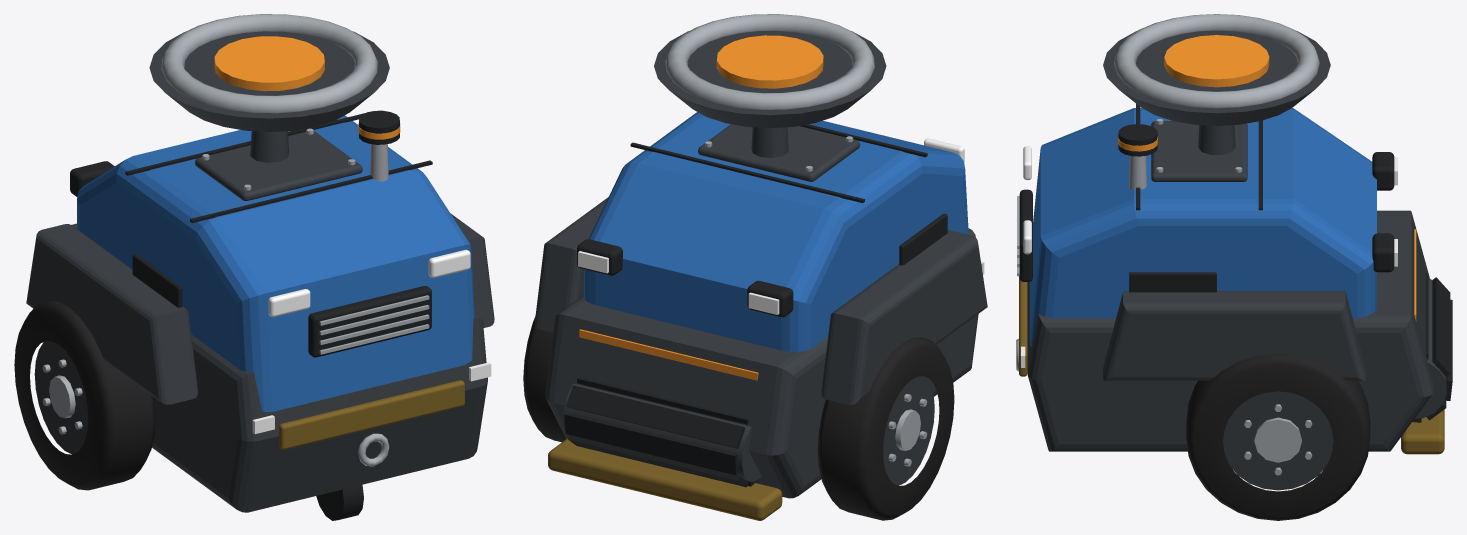
File: Machine_magnet_T1.glb
3 renders of one model, left to right at view 1: azimuth 30°, elevation 25°; view 2: azimuth 150°, elevation 25°; view 3: azimuth 270°, elevation 25°, orthographic. The views are drawn at different scales.
Visible parts, largest first — view 1: Body_Shell_0, Tier1_Parts_MAT_Player_Gunmetal_8, Axle_Front_MAT_tread_5, Tier1_Parts_MAT_steel_10, Tier1_Parts_MAT_darkTrim_9, Tier1_Parts_MAT_Player_Hazard_11, Tier1_Parts_MAT_Player_IntakeGlow_12, Axle_Front_MAT_Player_Gunmetal_6, Tier1_Parts_MAT_lamps_13, Axle_Front_MAT_steel_7, Lidar_Puck_3; view 2: Tier1_Parts_MAT_Player_Gunmetal_8, Body_Shell_0, Axle_Front_MAT_tread_5, Intake_Roller_MAT_darkTrim_2, Tier1_Parts_MAT_steel_10, Tier1_Parts_MAT_Player_Hazard_11, Tier1_Parts_MAT_Player_IntakeGlow_12, Tier1_Parts_MAT_darkTrim_9, Axle_Front_MAT_Player_Gunmetal_6, Roller_Core_1, Tier1_Parts_MAT_lamps_13, Axle_Front_MAT_steel_7; view 3: Tier1_Parts_MAT_Player_Gunmetal_8, Body_Shell_0, Axle_Front_MAT_tread_5, Tier1_Parts_MAT_steel_10, Axle_Front_MAT_Player_Gunmetal_6, Tier1_Parts_MAT_darkTrim_9, Tier1_Parts_MAT_Player_IntakeGlow_12, Intake_Roller_MAT_darkTrim_2, Tier1_Parts_MAT_Player_Hazard_11, Axle_Front_MAT_steel_7, Roller_Core_1, Lidar_Puck_3 (+1 smaller).
Part boxes in pixels (left/top/right/bottom): Body_Shell_0: left=77, top=115, right=474, bottom=411; Tier1_Parts_MAT_Player_Gunmetal_8: left=26, top=31, right=494, bottom=512; Axle_Front_MAT_tread_5: left=14, top=300, right=155, bottom=490; Tier1_Parts_MAT_steel_10: left=161, top=14, right=429, bottom=466; Tier1_Parts_MAT_darkTrim_9: left=70, top=113, right=432, bottom=520; Tier1_Parts_MAT_Player_Hazard_11: left=279, top=380, right=464, bottom=449; Tier1_Parts_MAT_Player_IntakeGlow_12: left=214, top=36, right=324, bottom=91; Axle_Front_MAT_Player_Gunmetal_6: left=34, top=341, right=88, bottom=454; Tier1_Parts_MAT_lamps_13: left=252, top=249, right=491, bottom=433; Axle_Front_MAT_steel_7: left=42, top=359, right=82, bottom=434; Lidar_Puck_3: left=359, top=110, right=399, bottom=144; Tier1_Parts_MAT_Player_Gunmetal_8: left=535, top=31, right=987, bottom=498; Body_Shell_0: left=584, top=112, right=968, bottom=351; Axle_Front_MAT_tread_5: left=523, top=316, right=954, bottom=520; Intake_Roller_MAT_darkTrim_2: left=564, top=377, right=758, bottom=487; Tier1_Parts_MAT_steel_10: left=665, top=14, right=874, bottom=171; Tier1_Parts_MAT_Player_Hazard_11: left=548, top=438, right=782, bottom=520; Tier1_Parts_MAT_Player_IntakeGlow_12: left=579, top=35, right=823, bottom=380; Tier1_Parts_MAT_darkTrim_9: left=577, top=124, right=947, bottom=317; Axle_Front_MAT_Player_Gunmetal_6: left=883, top=376, right=934, bottom=485; Roller_Core_1: left=563, top=383, right=761, bottom=481; Tier1_Parts_MAT_lamps_13: left=578, top=138, right=984, bottom=314; Axle_Front_MAT_steel_7: left=888, top=394, right=927, bottom=466; Tier1_Parts_MAT_Player_Gunmetal_8: left=1027, top=30, right=1433, bottom=451; Body_Shell_0: left=1029, top=108, right=1376, bottom=347; Axle_Front_MAT_tread_5: left=1186, top=353, right=1370, bottom=520; Tier1_Parts_MAT_steel_10: left=1016, top=14, right=1319, bottom=371; Axle_Front_MAT_Player_Gunmetal_6: left=1223, top=391, right=1333, bottom=490; Tier1_Parts_MAT_darkTrim_9: left=1019, top=104, right=1394, bottom=292; Tier1_Parts_MAT_Player_IntakeGlow_12: left=1164, top=35, right=1416, bottom=321; Intake_Roller_MAT_darkTrim_2: left=1412, top=273, right=1452, bottom=422; Tier1_Parts_MAT_Player_Hazard_11: left=1019, top=276, right=1444, bottom=454; Axle_Front_MAT_steel_7: left=1244, top=404, right=1312, bottom=475; Roller_Core_1: left=1414, top=278, right=1446, bottom=418; Lidar_Puck_3: left=1118, top=124, right=1157, bottom=156.
Bounding box in the file's own units: 0.89 × 0.98 × 0.9959.
